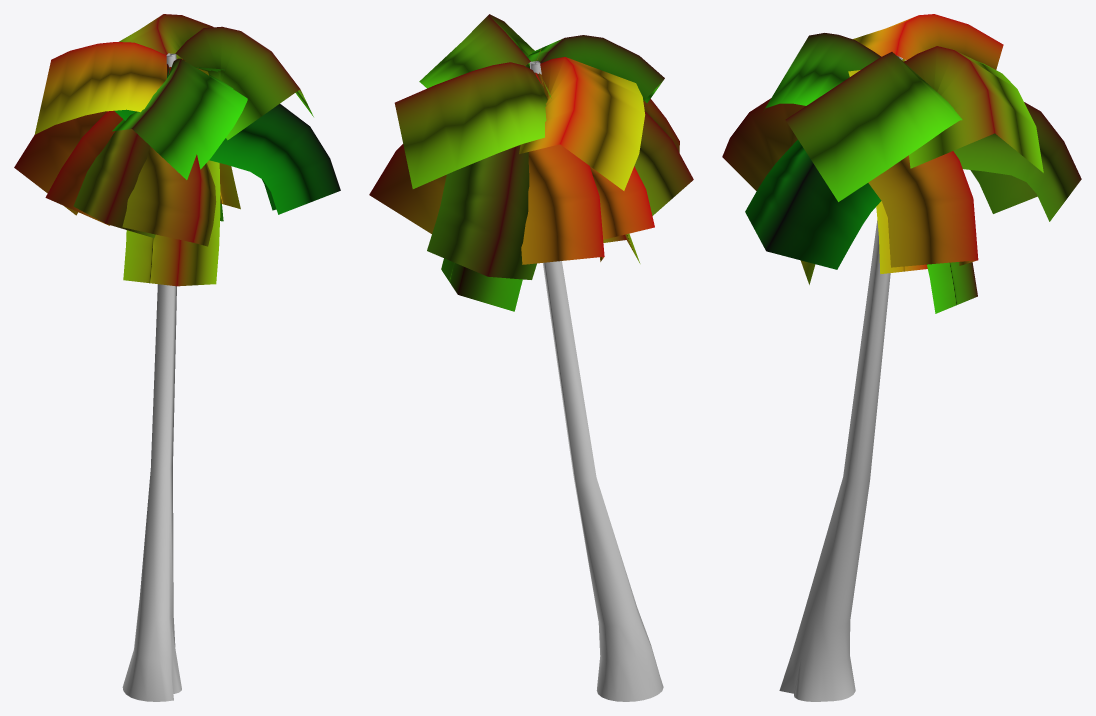
File: Type_7_Tree_5.fbx
3 renders of one model, left to right at view 1: azimuth 30°, elevation 25°; view 2: azimuth 150°, elevation 25°; view 3: azimuth 270°, elevation 25°, orthographic. The views are drawn at different scales.
Parts seen in each view (by area): view 1: Leaf, Trunk; view 2: Leaf, Trunk; view 3: Leaf, Trunk.
Part boxes in pixels (left/top/right/bottom): Leaf: left=14, top=14, right=340, bottom=286; Trunk: left=122, top=53, right=181, bottom=701; Leaf: left=369, top=14, right=693, bottom=311; Trunk: left=529, top=61, right=663, bottom=701; Leaf: left=722, top=14, right=1081, bottom=313; Trunk: left=779, top=56, right=902, bottom=701.
Bounding box in the file's own units: 720 × 1794 × 854.
